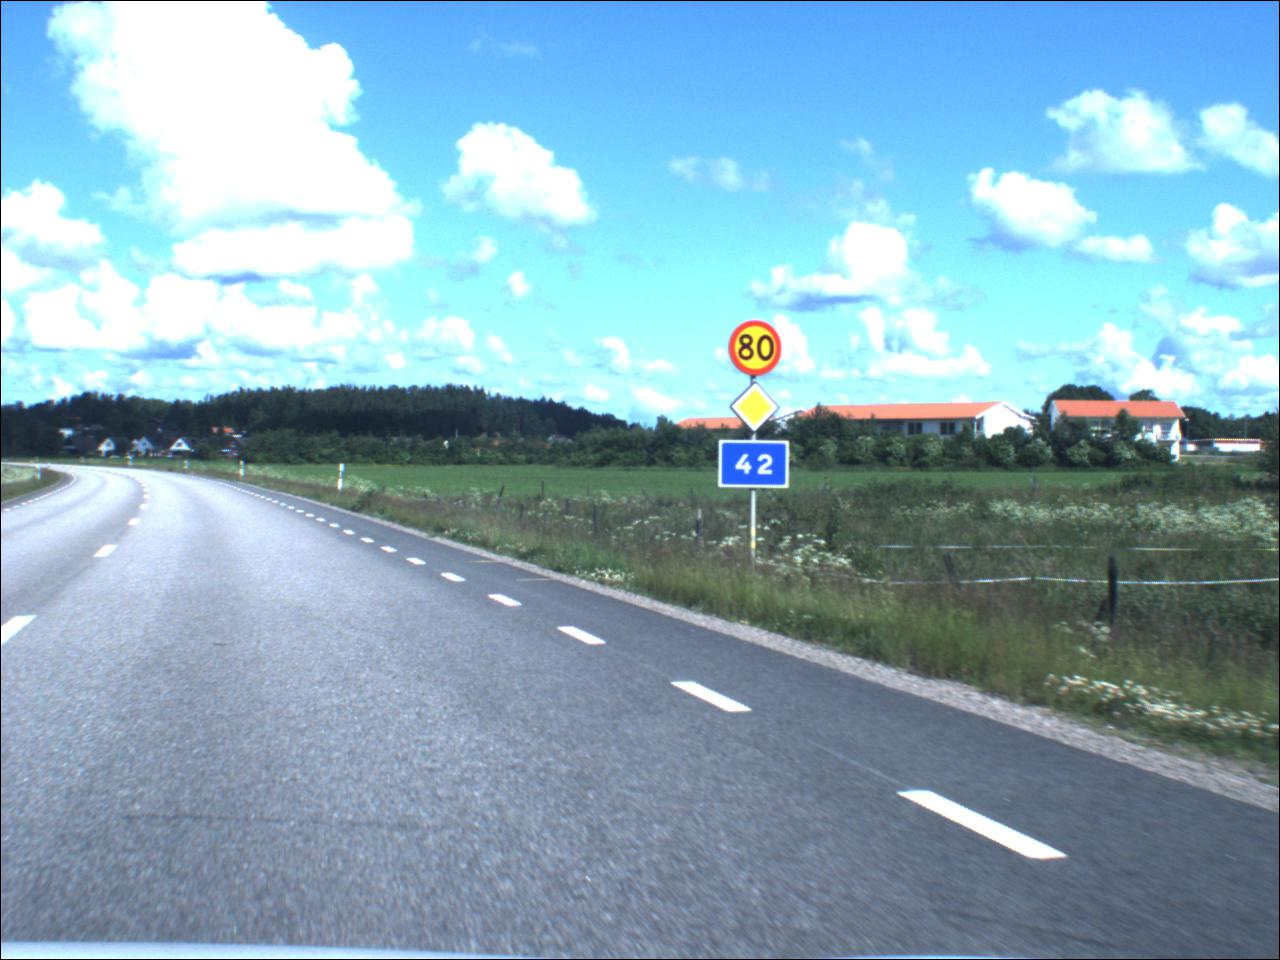80_SIGN: (729, 321, 786, 379)
PRIORITY_ROAD: (730, 384, 781, 436)
